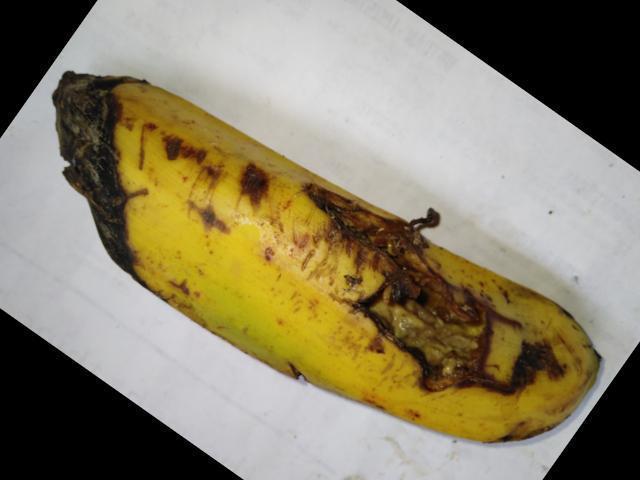ripe: (116, 54, 602, 459)
rotten: (298, 165, 512, 412), (32, 52, 156, 269)
